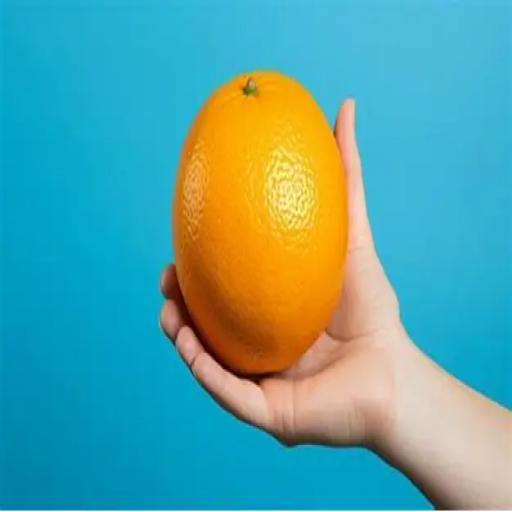orange: (173, 72, 347, 374)
